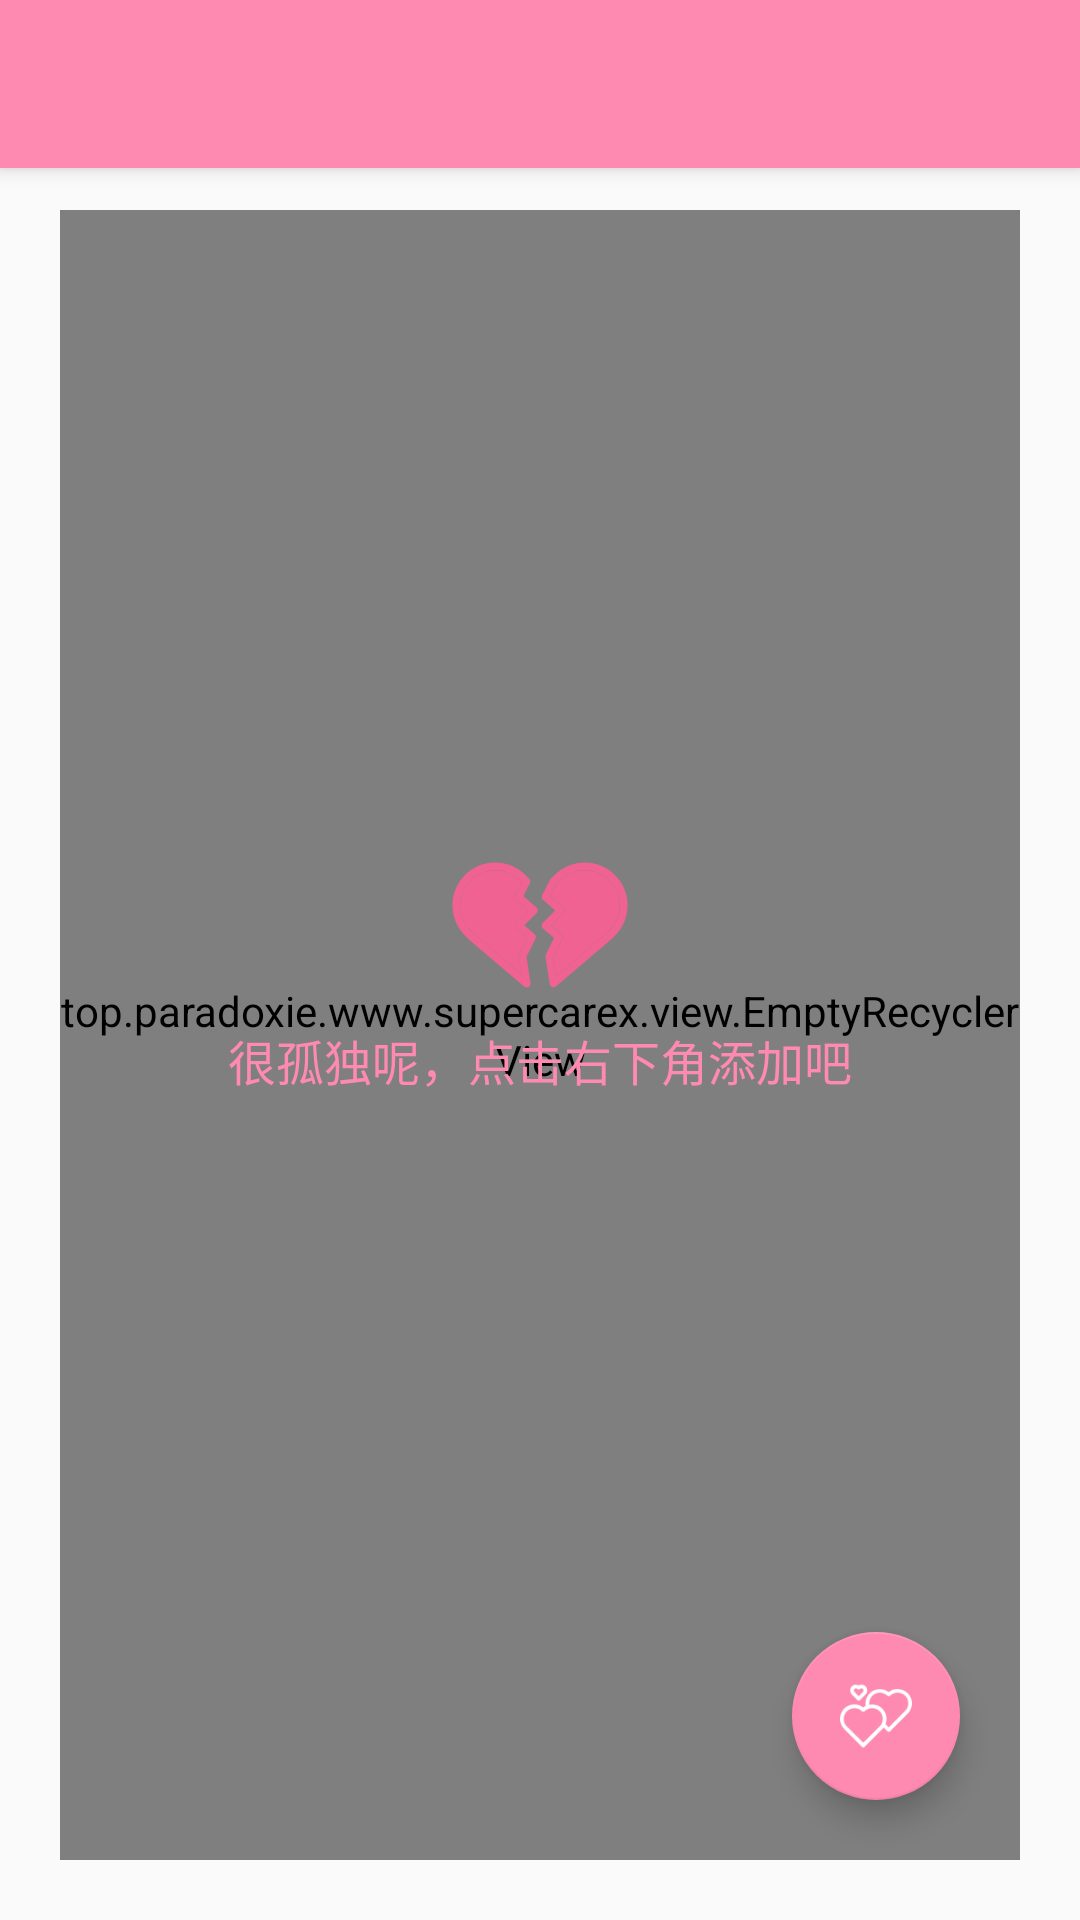

Screen size 1080px×1920px. Icon name, then its center in pixels as (x=x, y=y):
heart un: (x=538, y=943)
